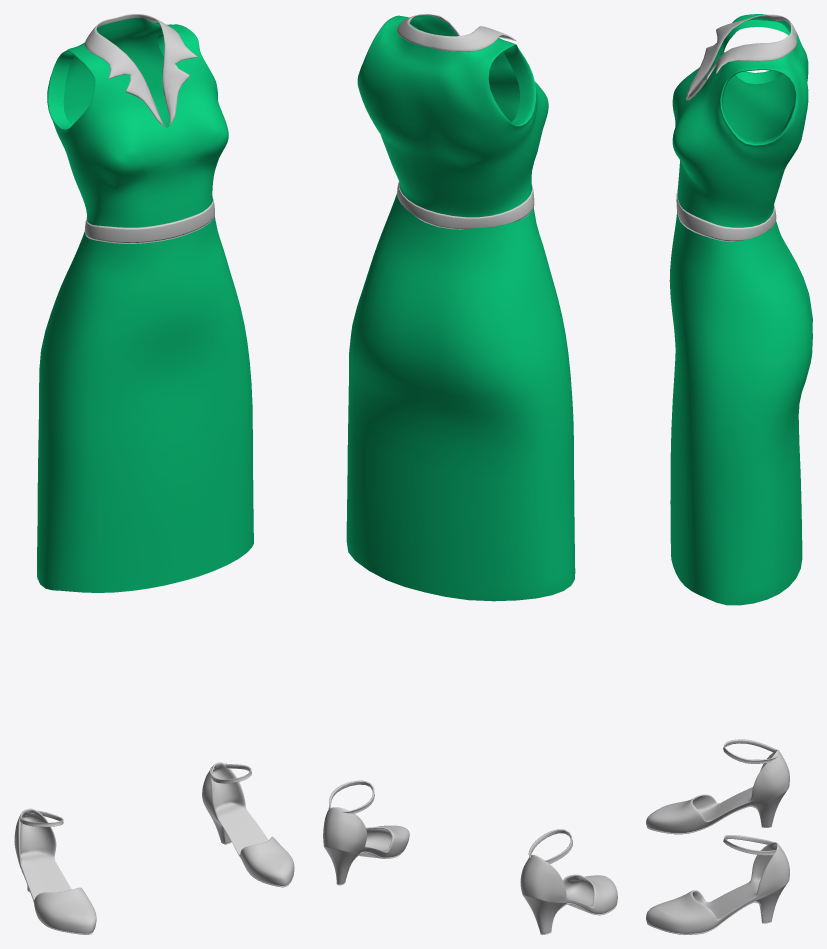
The model's file is nvquntao6.obj.
The picture shows the model from 3 angles, left to right: view 1: azimuth 30°, elevation 25°; view 2: azimuth 150°, elevation 25°; view 3: azimuth 270°, elevation 25°; orthographic projection. The views are drawn at different scales.
Parts seen in each view (by area): view 1: nvquntao2; view 2: nvquntao2; view 3: nvquntao2.
Boxes of the visible parts, left/top/right/bottom form: nvquntao2: left=14, top=14, right=294, bottom=934; nvquntao2: left=323, top=14, right=617, bottom=934; nvquntao2: left=646, top=14, right=812, bottom=934.
Size of the model in its own units: 1.68 by 5.51 by 0.9827.
